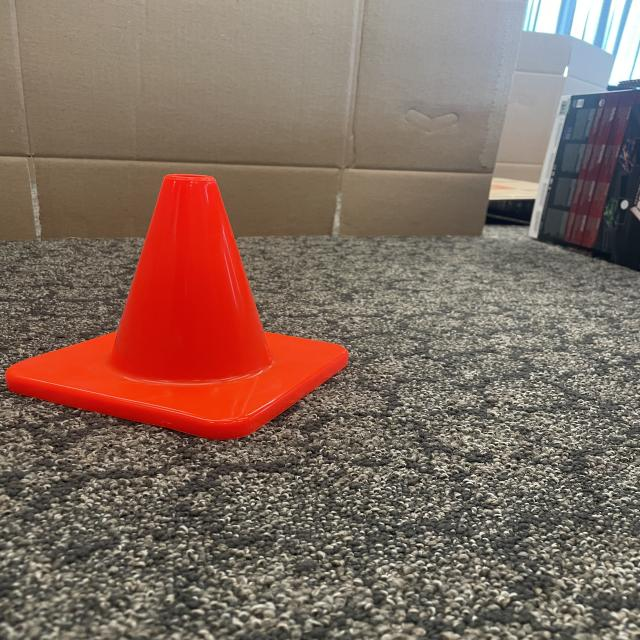Traffic Cone: (0, 164, 364, 448)
